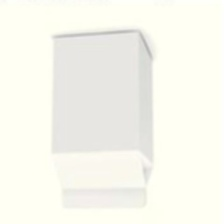carton: (47, 25, 160, 215)
